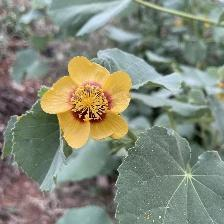indian mallow: (41, 55, 135, 150)
